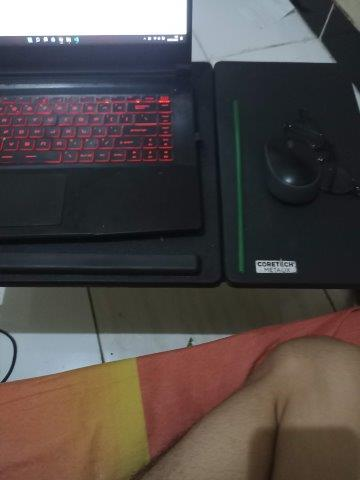sedotan: (233, 100, 245, 272)
